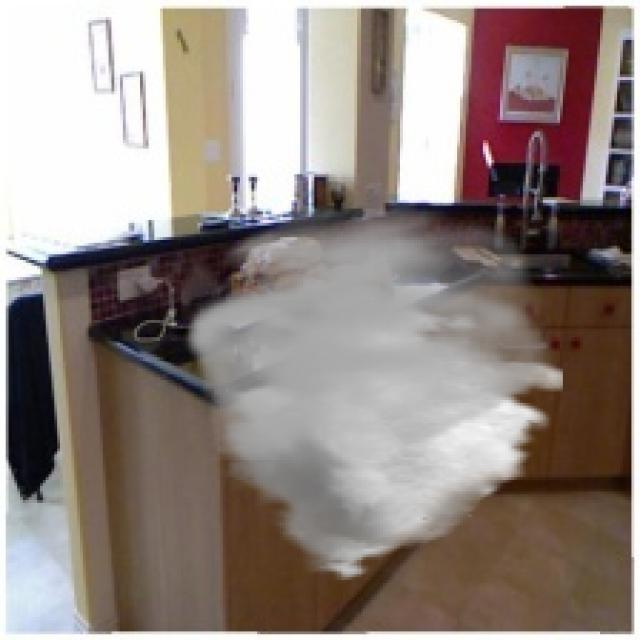smoke: (180, 203, 563, 583)
